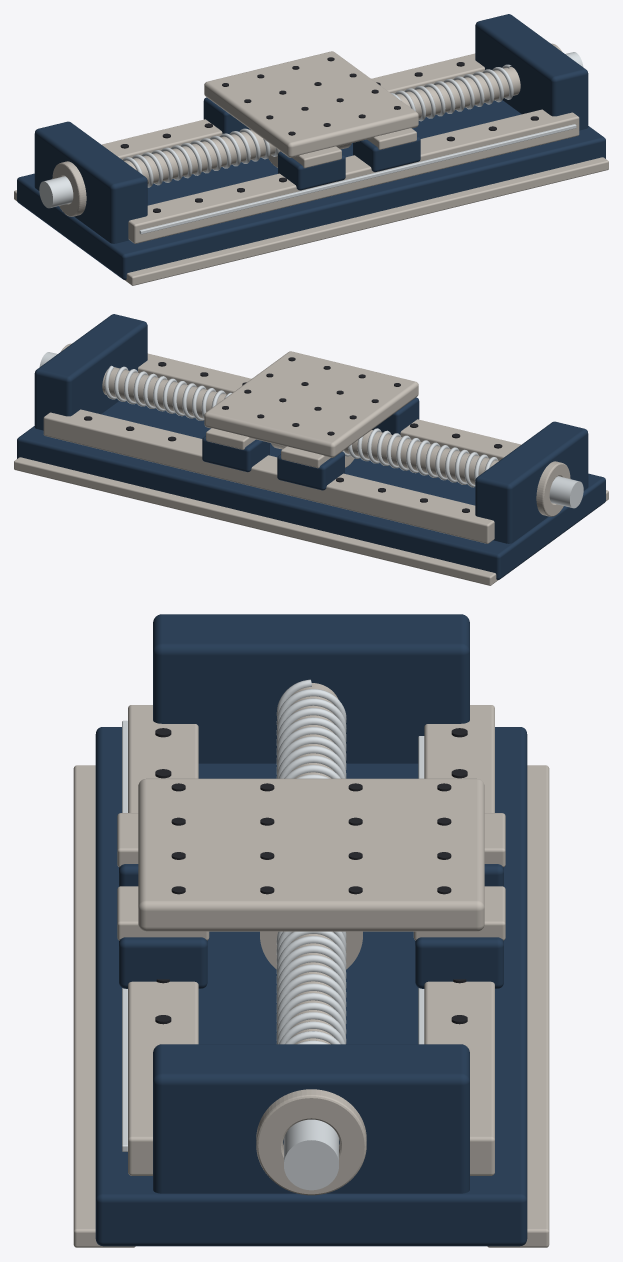
File: robots-47.glb
3 renders of one model, top to bottom at view 1: azimuth 30°, elevation 25°; view 2: azimuth 150°, elevation 25°; view 3: azimuth 270°, elevation 25°, orthographic. The views are drawn at different scales.
Parts seen in each view (by area): view 1: base, rails, end-blocks, table, screw, sliders, end-bearings, journals; view 2: base, rails, end-blocks, table, screw, sliders, end-bearings, journals; view 3: base, end-blocks, table, rails, sliders, screw, end-bearings, journals, nut.
Boxes of the visible parts, <box> form: base: <box>14,100,608,285</box>; rails: <box>102,53,579,243</box>; end-blocks: <box>34,14,588,243</box>; table: <box>204,51,418,157</box>; screw: <box>123,64,520,187</box>; sliders: <box>203,97,420,190</box>; end-bearings: <box>52,43,562,216</box>; journals: <box>39,52,583,208</box>; base: <box>14,401,608,585</box>; rails: <box>43,353,520,543</box>; end-blocks: <box>34,314,588,543</box>; table: <box>204,351,418,457</box>; screw: <box>102,365,498,487</box>; sliders: <box>202,397,419,490</box>; end-bearings: <box>60,343,570,516</box>; journals: <box>39,352,583,508</box>; base: <box>73,727,549,1247</box>; end-blocks: <box>153,614,469,1193</box>; table: <box>138,778,484,931</box>; rails: <box>122,705,494,1175</box>; sliders: <box>117,813,505,988</box>; screw: <box>276,679,346,1044</box>; end-bearings: <box>256,1089,366,1195</box>; journals: <box>284,1119,338,1190</box>; nut: <box>260,931,362,969</box>.
Size of the model in its own units: 3.32 by 0.533 by 1.29.
